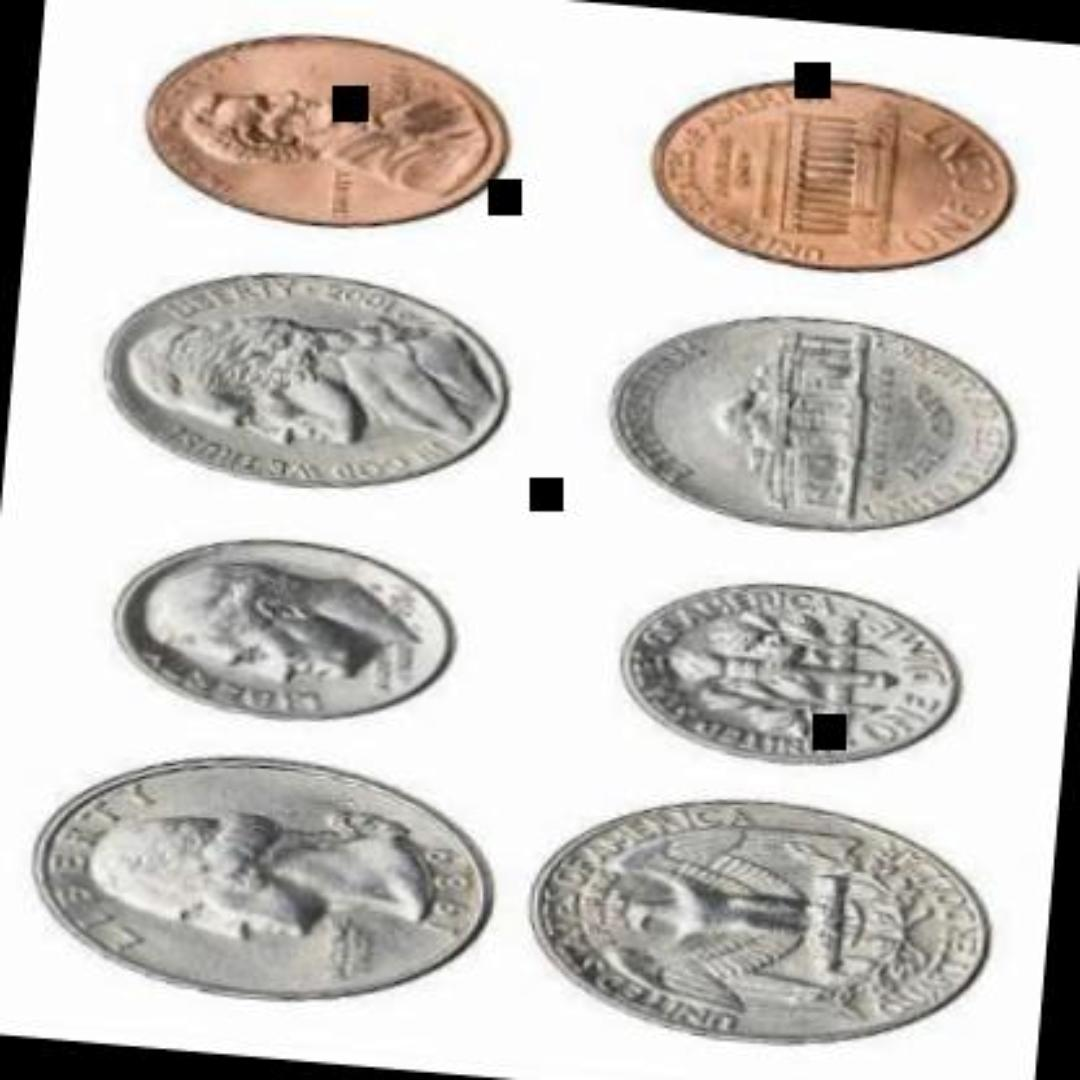Dime: (97, 527, 476, 739), (606, 572, 980, 784)
Nickel: (588, 296, 1032, 560), (97, 256, 520, 512)
Penny: (640, 54, 1044, 296), (127, 18, 526, 244)
Quarter: (13, 739, 519, 1027), (520, 781, 997, 1071)
